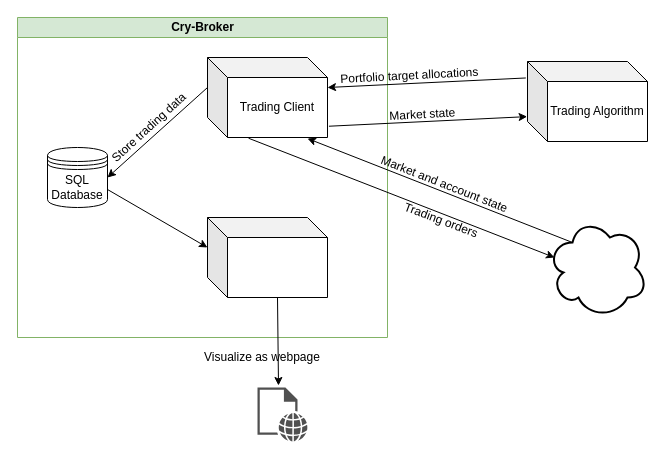
Some shapes in this 666 by 459 pixel diagram are drawn without their labels. Each missing label, with the centre of its shape:
"Binance" belongs at point (597, 267).
"Web Server" belongs at point (267, 257).
